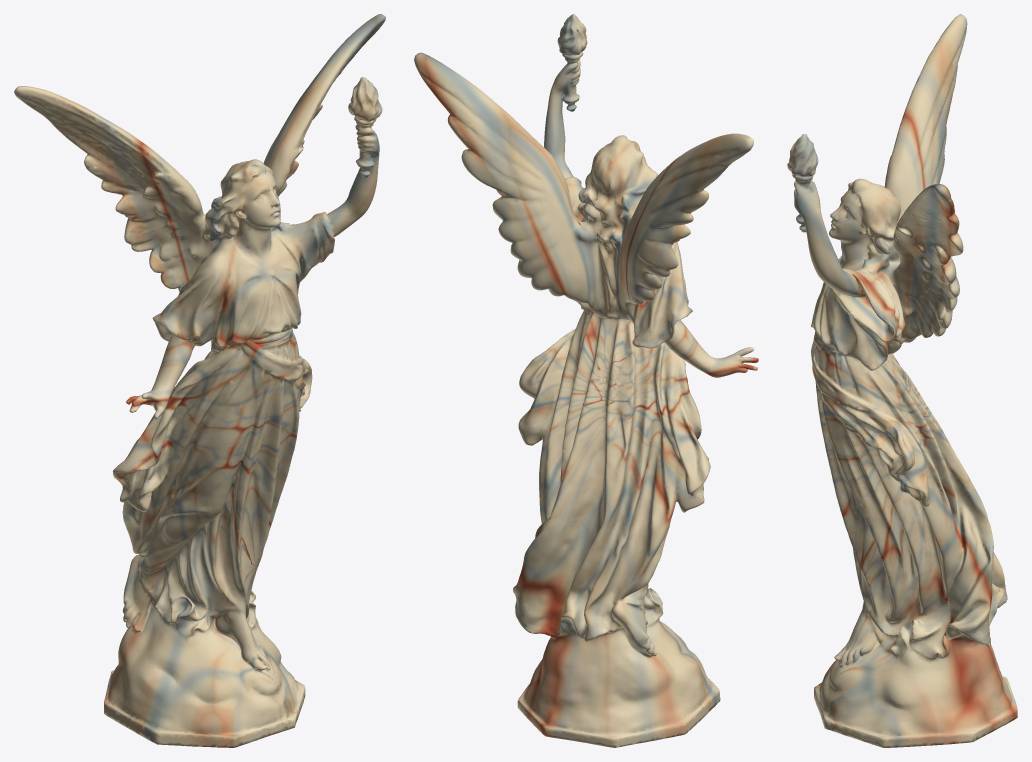
File: lucy.obj
The picture shows the model from 3 angles, left to right: view 1: azimuth 30°, elevation 25°; view 2: azimuth 150°, elevation 25°; view 3: azimuth 270°, elevation 25°; orthographic projection. The views are drawn at different scales.
Visible parts, largest first — view 1: lucy; view 2: lucy; view 3: lucy.
Part boxes in pixels (left/top/right/bottom): lucy: left=14, top=14, right=385, bottom=747; lucy: left=414, top=14, right=758, bottom=747; lucy: left=787, top=14, right=1017, bottom=747.
Bounding box in the file's own units: 44.51 × 76.44 × 25.55.
Materials: 1 (1 with a texture image).
